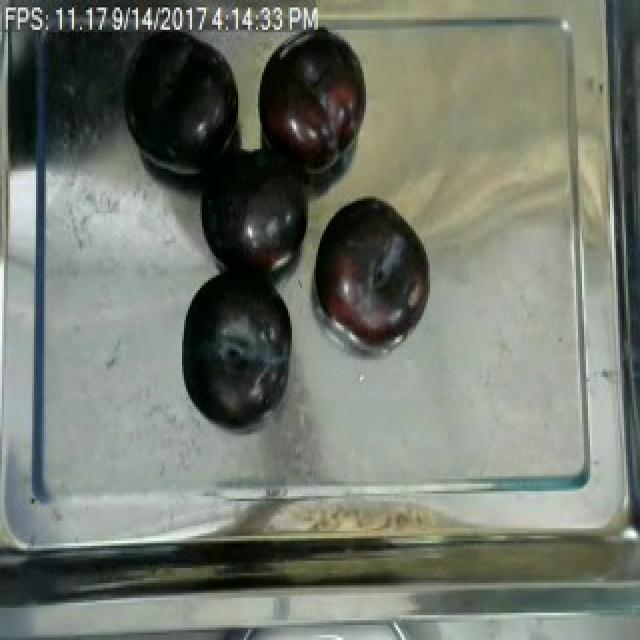Fruit: (306, 191, 438, 362), (176, 258, 300, 429), (118, 30, 240, 186), (254, 27, 374, 181), (194, 137, 316, 286)
